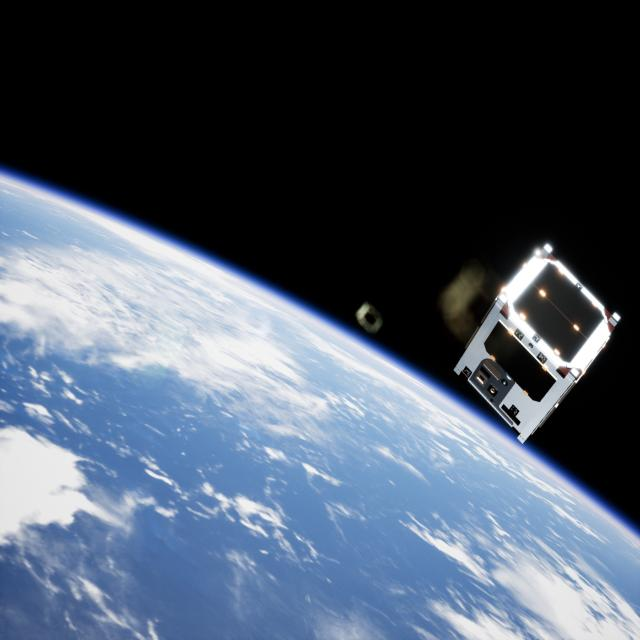medium_debris: (451, 242, 626, 446)
